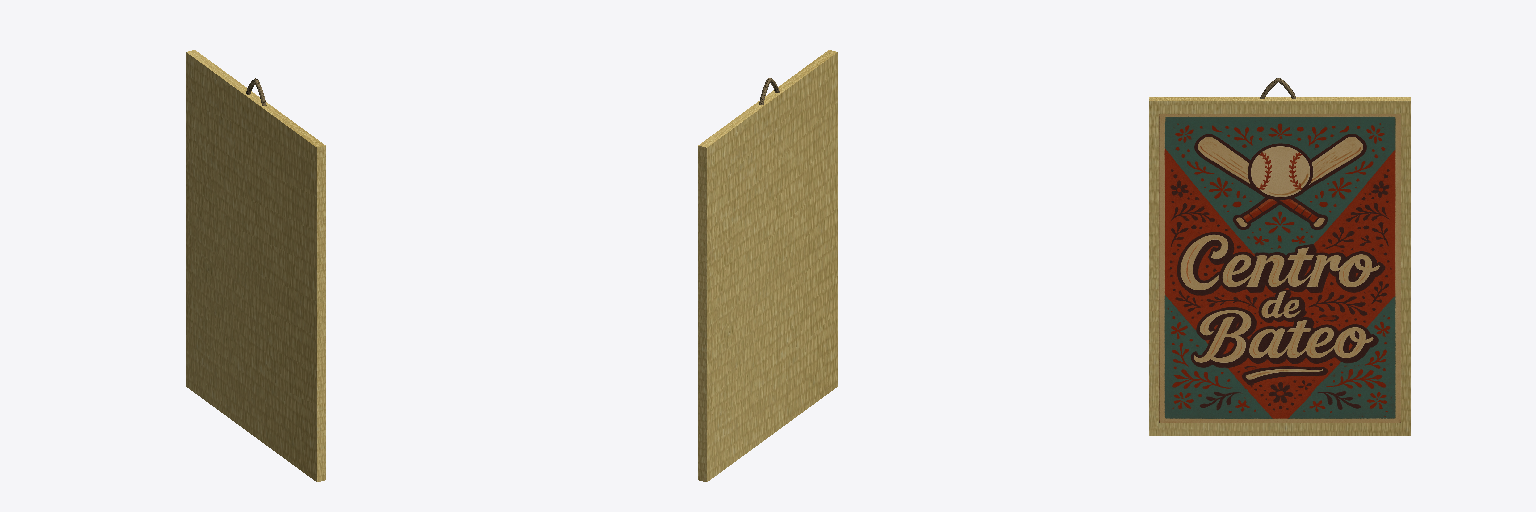
The picture shows the model from 3 angles: view 1: azimuth 30°, elevation 25°; view 2: azimuth 150°, elevation 25°; view 3: azimuth 270°, elevation 25°; orthographic projection.
Visible parts, largest first — view 1: Poster; view 2: Poster; view 3: Poster.
Part boxes in pixels (x1,y1,x2,y2): Poster: (186,50,325,481); Poster: (698,50,837,481); Poster: (1149,97,1410,435).
Size of the model in its own units: 0.1401 by 5.28 by 3.53.
Materials: 3 (3 with a texture image).